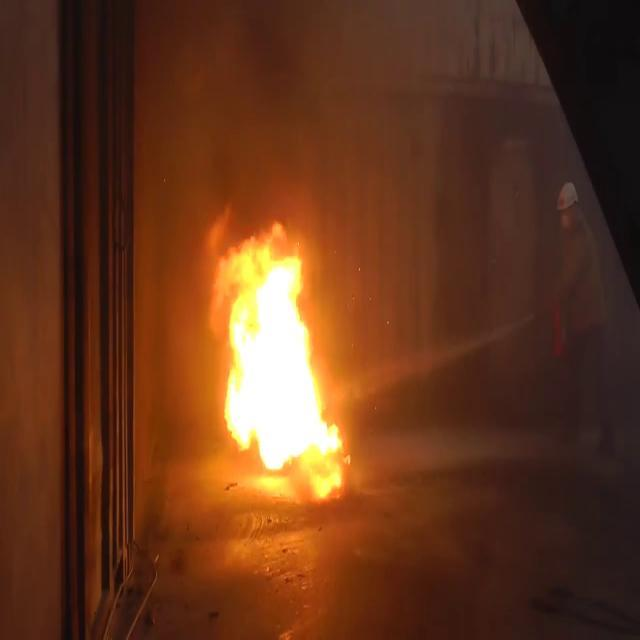Fire: (216, 225, 350, 492)
Smoke: (128, 0, 439, 286)
